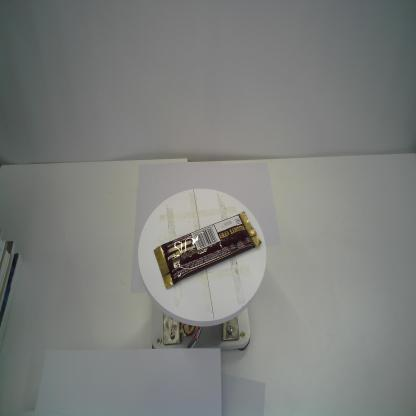Chocolate: (153, 210, 262, 292)
